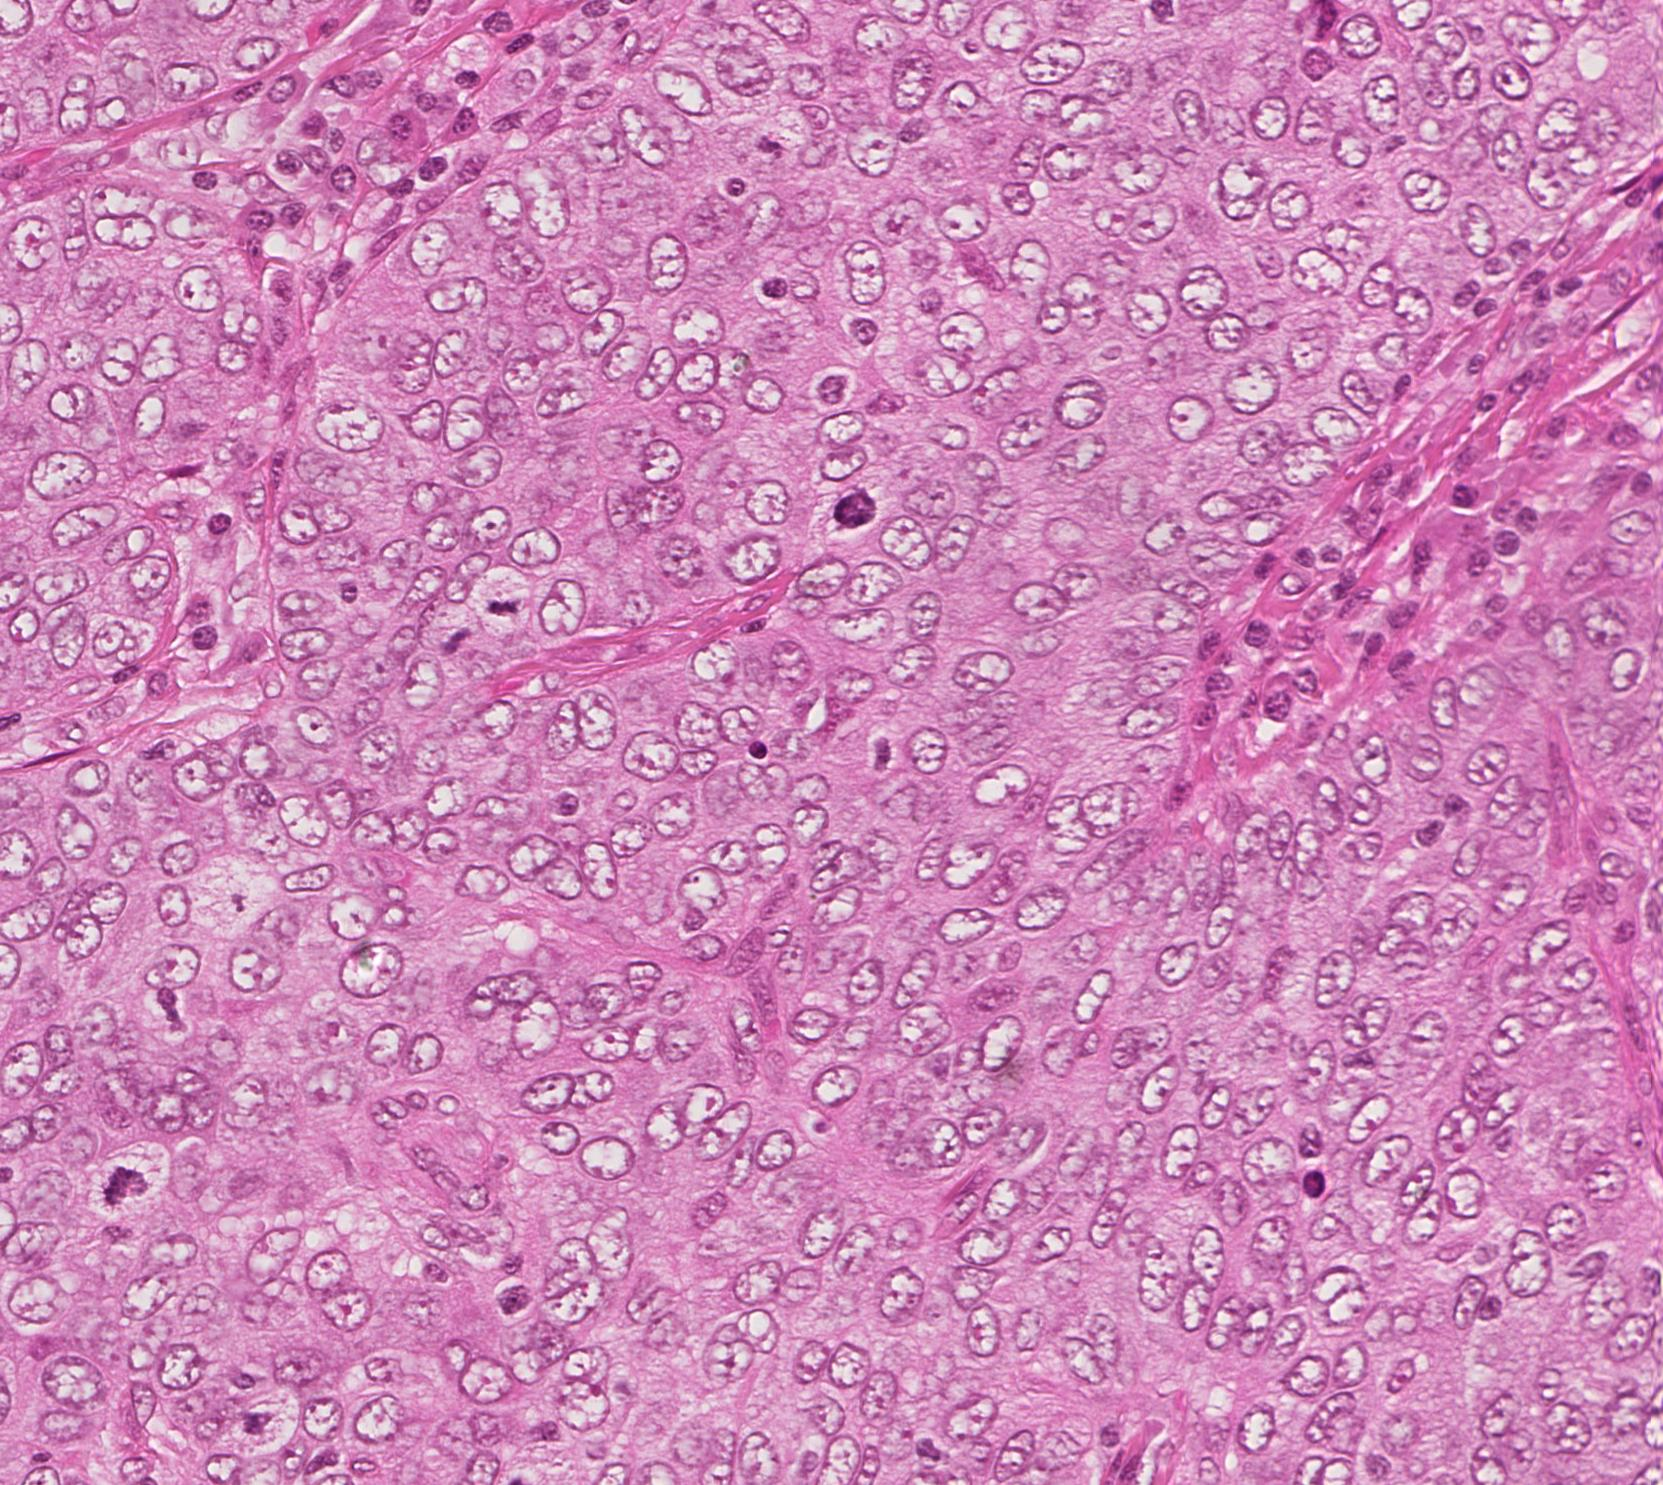mitosis: (483, 573, 543, 634), (421, 608, 482, 668), (93, 1142, 153, 1203)
